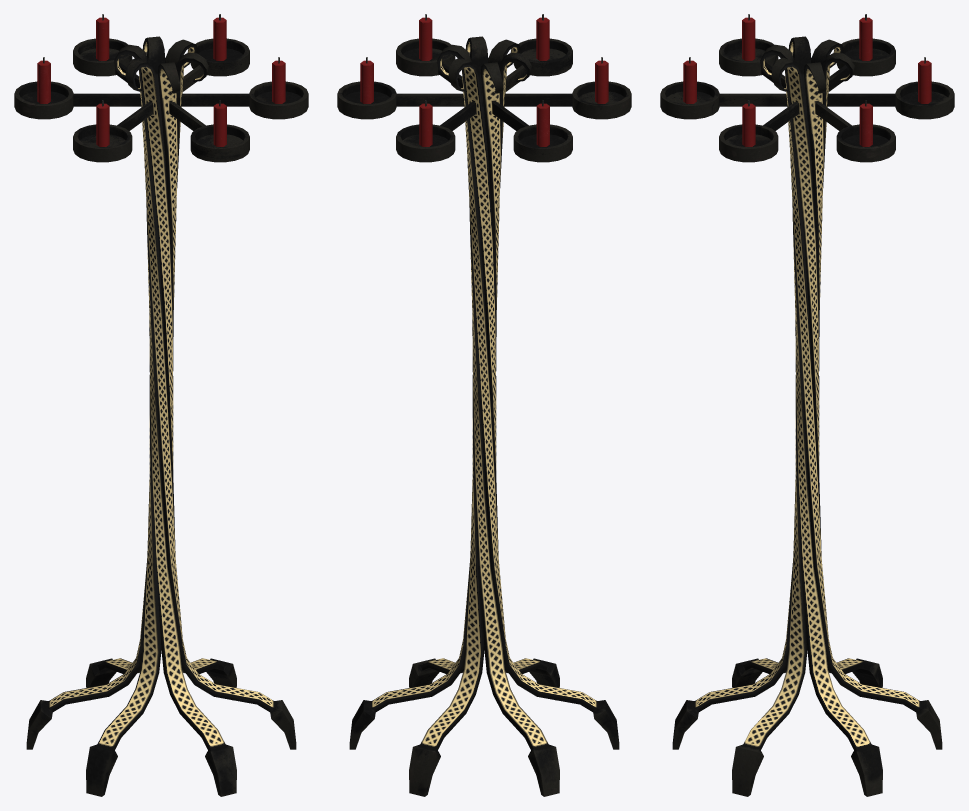
The model's file is FloorCandle_02.FBX.
3 views of the same model, side by side, from view 1: azimuth 30°, elevation 25°; view 2: azimuth 150°, elevation 25°; view 3: azimuth 270°, elevation 25° (orthographic).
Visible parts, largest first — view 1: FloorCandle_02; view 2: FloorCandle_02; view 3: FloorCandle_02.
Part boxes in pixels (bbox=[...]): FloorCandle_02: bbox=[14, 14, 308, 796]; FloorCandle_02: bbox=[337, 14, 631, 796]; FloorCandle_02: bbox=[660, 14, 954, 796].
Size of what is drawn, in the model's own units: 44.11 by 49.56 by 129.
1 material, 1 textured.
